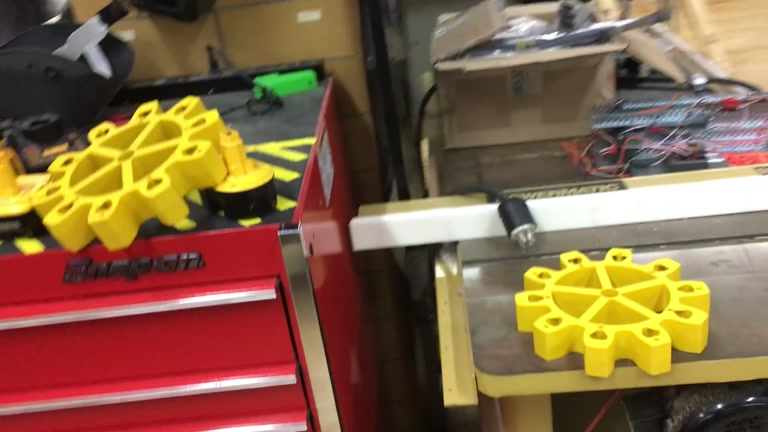gear: (29, 94, 230, 252), (513, 246, 712, 377)
